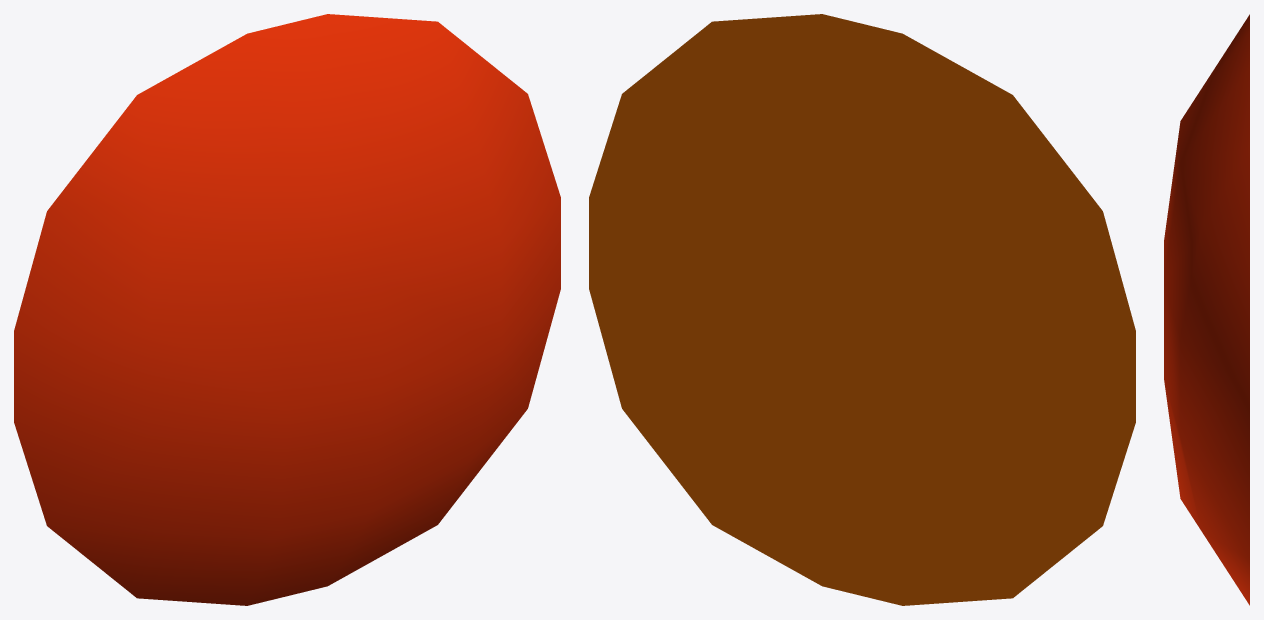
Rendered from mesh_tomato_stage07.fbx.
3 views of the same model, side by side, from view 1: azimuth 30°, elevation 25°; view 2: azimuth 150°, elevation 25°; view 3: azimuth 270°, elevation 25° (orthographic). The views are drawn at different scales.
Visible parts, largest first — view 1: mesh_tomato_stage07; view 2: mesh_tomato_stage07; view 3: mesh_tomato_stage07.
Boxes of the visible parts, x1,y1,x2,y2 form: mesh_tomato_stage07: [14, 14, 560, 605]; mesh_tomato_stage07: [589, 14, 1135, 605]; mesh_tomato_stage07: [1164, 14, 1249, 605].
Bounding box in the file's own units: 0.1556 × 0.1556 × 0.0233.
